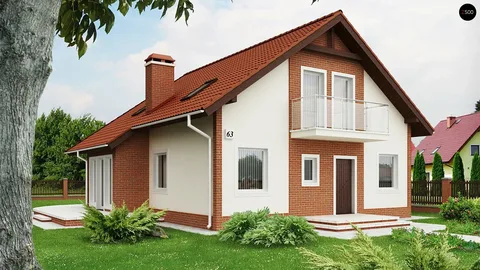private_hause: (86, 29, 420, 223)
